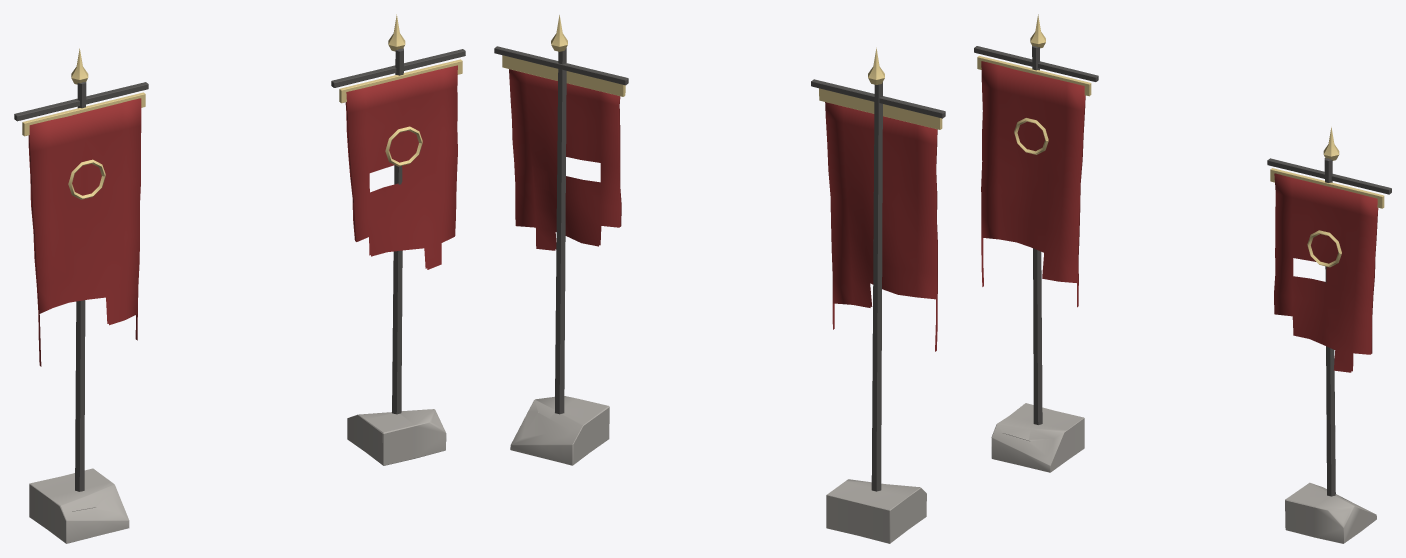
Rendered from banner.glb.
3 views of the same model, side by side, from view 1: azimuth 30°, elevation 25°; view 2: azimuth 150°, elevation 25°; view 3: azimuth 330°, elevation 25° (orthographic). The views are drawn at different scales.
Parts seen in each view (by area): view 1: cloth, cloth.001, base, base.001, pole, pole.001, bar_ns, bar_ns.001, trim_ns, trim_ns.001; view 2: cloth, cloth.001, base.001, base, pole, pole.001, trim_ns.001, trim_ns, bar_ns.001, bar_ns; view 3: cloth, cloth.001, base, base.001, pole, pole.001, bar_ns, bar_ns.001, trim_ns, trim_ns.001.
Boxes of the visible parts, <box> form: cloth: <box>28,98,141,366</box>; cloth.001: <box>345,65,457,269</box>; base: <box>29,468,129,543</box>; base.001: <box>347,409,446,465</box>; pole: <box>75,82,86,491</box>; pole.001: <box>392,48,403,414</box>; bar_ns: <box>14,82,148,121</box>; bar_ns.001: <box>331,49,465,87</box>; trim_ns: <box>22,92,145,136</box>; trim_ns.001: <box>339,59,462,103</box>; cloth: <box>825,102,937,351</box>; cloth.001: <box>509,69,621,250</box>; base.001: <box>510,396,609,465</box>; base: <box>826,479,926,543</box>; pole: <box>871,82,882,491</box>; pole.001: <box>555,48,566,414</box>; trim_ns.001: <box>502,55,625,96</box>; trim_ns: <box>819,88,942,129</box>; bar_ns.001: <box>494,46,628,85</box>; bar_ns: <box>811,79,945,118</box>; cloth: <box>981,61,1085,307</box>; cloth.001: <box>1274,173,1378,372</box>; base: <box>991,403,1084,472</box>; base.001: <box>1285,482,1376,543</box>; pole: <box>1032,46,1042,424</box>; pole.001: <box>1324,158,1335,496</box>; bar_ns: <box>974,46,1098,81</box>; bar_ns.001: <box>1267,158,1391,194</box>; trim_ns: <box>977,55,1091,96</box>; trim_ns.001: <box>1270,168,1384,208</box>.
Size of the model in its own units: 4.25 by 4.3 by 0.6095.
